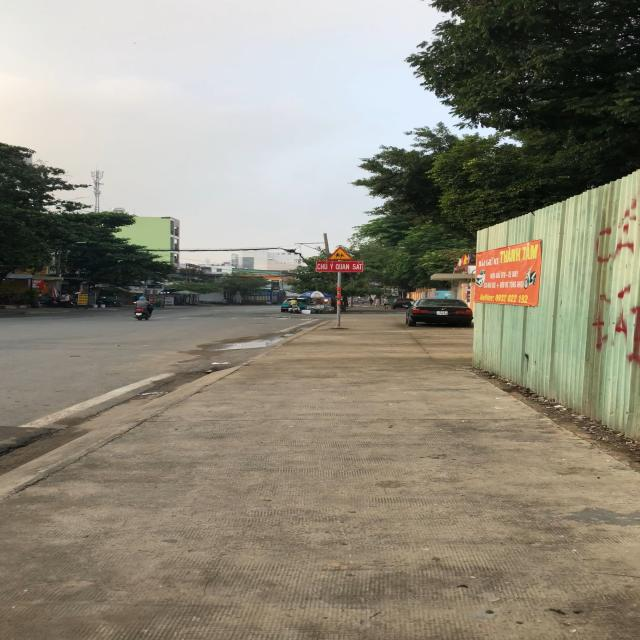Bien bao tre em: (325, 247, 352, 260)
